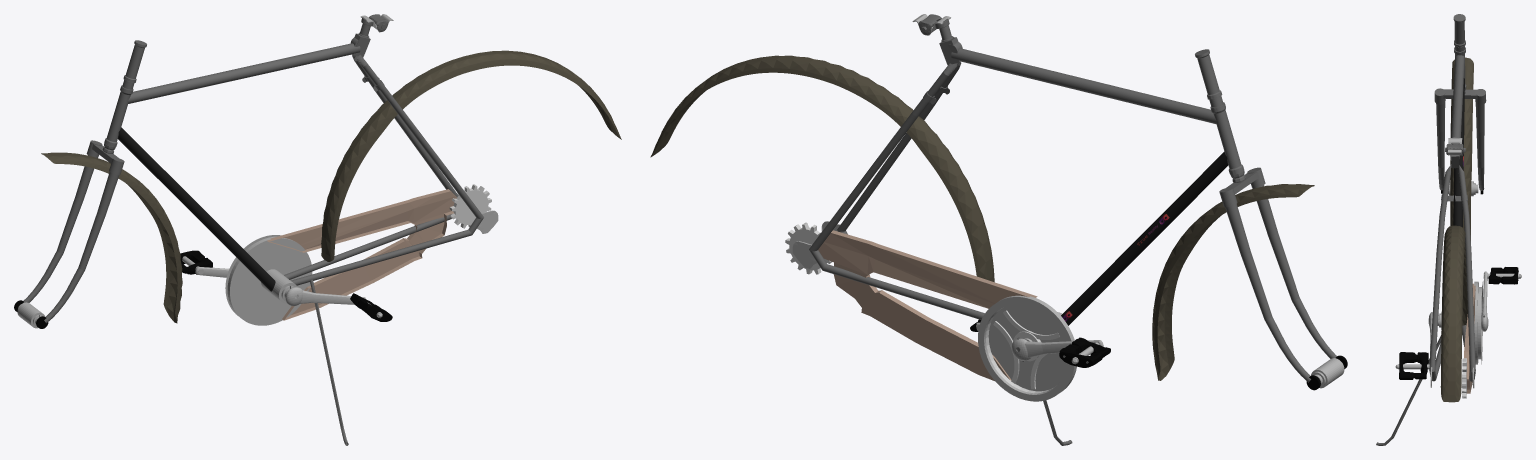
File: frame.dae
The picture shows the model from 3 angles, left to right: view 1: azimuth 30°, elevation 25°; view 2: azimuth 150°, elevation 25°; view 3: azimuth 270°, elevation 25°; orthographic projection. The views are drawn at different scales.
Parts seen in each view (by area): view 1: BICYCLE_Cubo_3, BICYCLE_lataAtras_lataAtras1, BICYCLE_chasis_Simetr_a_piezasAtras_, BICYCLE_lataRedonda, BICYCLE_lataDElante_lataDelante, BICYCLE_chasis_NURBS_Recorrido__4, BICYCLE_chasis_Simetr_a_2_pata_delantera, BICYCLE_chasis_NURBS_Recorrido__5, BICYCLE_rin1_engrane, BICYCLE_pedal2_pedal1_Cubo_4, BICYCLE_chasis_piezaDelante_1, BICYCLE_Cilindro; view 2: BICYCLE_Cubo_3, BICYCLE_lataAtras_lataAtras1, BICYCLE_lataRedonda, BICYCLE_chasis_Simetr_a_piezasAtras_, BICYCLE_lataDElante_lataDelante, BICYCLE_chasis_Simetr_a_2_pata_delantera, BICYCLE_chasis_NURBS_Recorrido__4, BICYCLE_chasis_NURBS_Recorrido__5, BICYCLE_chasis_piezaDelante_1, BICYCLE_pedal12_HyperNURBS_6_Cubo_43, BICYCLE_pedal12_pedal11_Cubo_42, BICYCLE_rin1_engrane (+1 smaller); view 3: BICYCLE_lataAtras_lataAtras1, BICYCLE_chasis_Simetr_a_piezasAtras_, BICYCLE_lataDElante_lataDelante, BICYCLE_chasis_Simetr_a_2_pata_delantera, BICYCLE_chasis_NURBS_Recorrido__4, BICYCLE_chasis_NURBS_Recorrido__5, BICYCLE_lataRedonda, BICYCLE_pedal2_HyperNURBS_61_Cubo_41, BICYCLE_pedal12_HyperNURBS_6_Cubo_43, BICYCLE_Cubo_3, BICYCLE_chasis_piezaDelante_2, BICYCLE_Cilindro (+5 smaller).
Boxes of the visible parts, <box> form: BICYCLE_Cubo_3: <box>267,189,456,320</box>; BICYCLE_lataAtras_lataAtras1: <box>321,50,621,261</box>; BICYCLE_chasis_Simetr_a_piezasAtras_: <box>284,54,483,285</box>; BICYCLE_lataRedonda: <box>225,235,312,325</box>; BICYCLE_lataDElante_lataDelante: <box>41,152,182,323</box>; BICYCLE_chasis_NURBS_Recorrido__4: <box>128,43,360,103</box>; BICYCLE_chasis_Simetr_a_2_pata_delantera: <box>23,155,119,323</box>; BICYCLE_chasis_NURBS_Recorrido__5: <box>118,127,275,291</box>; BICYCLE_rin1_engrane: <box>449,184,491,228</box>; BICYCLE_pedal2_pedal1_Cubo_4: <box>285,287,365,305</box>; BICYCLE_chasis_piezaDelante_1: <box>104,86,133,146</box>; BICYCLE_Cilindro: <box>310,279,348,445</box>; BICYCLE_Cubo_3: <box>818,230,1037,380</box>; BICYCLE_lataAtras_lataAtras1: <box>650,55,994,282</box>; BICYCLE_lataRedonda: <box>978,295,1076,401</box>; BICYCLE_chasis_Simetr_a_piezasAtras_: <box>809,62,984,319</box>; BICYCLE_lataDElante_lataDelante: <box>1152,184,1314,380</box>; BICYCLE_chasis_Simetr_a_2_pata_delantera: <box>1225,185,1336,382</box>; BICYCLE_chasis_NURBS_Recorrido__4: <box>951,48,1216,123</box>; BICYCLE_chasis_NURBS_Recorrido__5: <box>1061,151,1228,325</box>; BICYCLE_chasis_piezaDelante_1: <box>1210,104,1244,174</box>; BICYCLE_pedal12_HyperNURBS_6_Cubo_43: <box>1059,337,1110,367</box>; BICYCLE_pedal12_pedal11_Cubo_42: <box>1012,338,1103,360</box>; BICYCLE_rin1_engrane: <box>785,222,831,274</box>; BICYCLE_lataAtras_lataAtras1: <box>1440,225,1467,402</box>; BICYCLE_chasis_Simetr_a_piezasAtras_: <box>1429,164,1475,381</box>; BICYCLE_lataDElante_lataDelante: <box>1450,57,1473,240</box>; BICYCLE_chasis_Simetr_a_2_pata_delantera: <box>1436,102,1484,190</box>; BICYCLE_chasis_NURBS_Recorrido__4: <box>1450,55,1464,160</box>; BICYCLE_chasis_NURBS_Recorrido__5: <box>1453,78,1464,227</box>; BICYCLE_lataRedonda: <box>1474,281,1482,364</box>; BICYCLE_pedal2_HyperNURBS_61_Cubo_41: <box>1399,352,1428,379</box>; BICYCLE_pedal12_HyperNURBS_6_Cubo_43: <box>1488,267,1518,284</box>; BICYCLE_Cubo_3: <box>1464,283,1475,393</box>; BICYCLE_chasis_piezaDelante_2: <box>1453,14,1465,47</box>; BICYCLE_Cilindro: <box>1376,335,1441,445</box>.
Size of the model in its own units: 3.2 by 0.7804 by 2.13.
8 materials, 1 textured.
